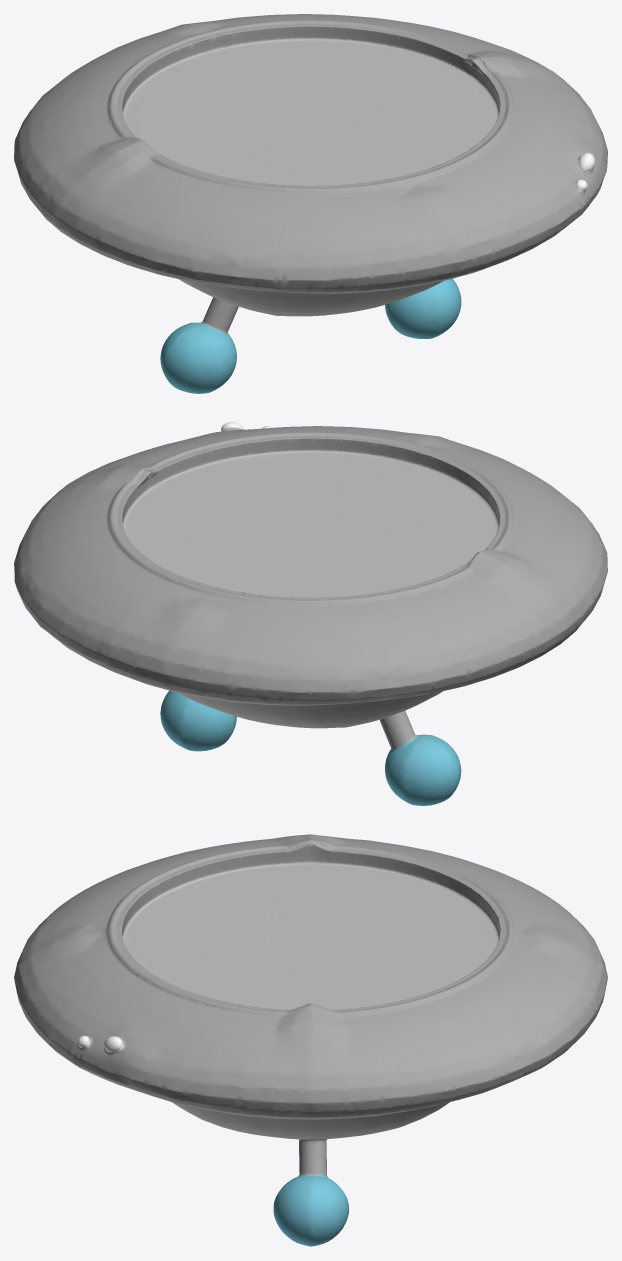
File: Meshy_AI_Orbital_Cradle_1015094219_texture.fbx
3 renders of one model, top to bottom at view 1: azimuth 30°, elevation 25°; view 2: azimuth 150°, elevation 25°; view 3: azimuth 270°, elevation 25°, orthographic.
Parts seen in each view (by area): view 1: Mesh_0; view 2: Mesh_0; view 3: Mesh_0.
Part boxes in pixels (x1,y1,x2,y2): Mesh_0: (14,14,607,393); Mesh_0: (14,422,607,805); Mesh_0: (14,834,607,1246).
Bounding box in the file's own units: 190 × 93.25 × 190.
1 material, 1 textured.
